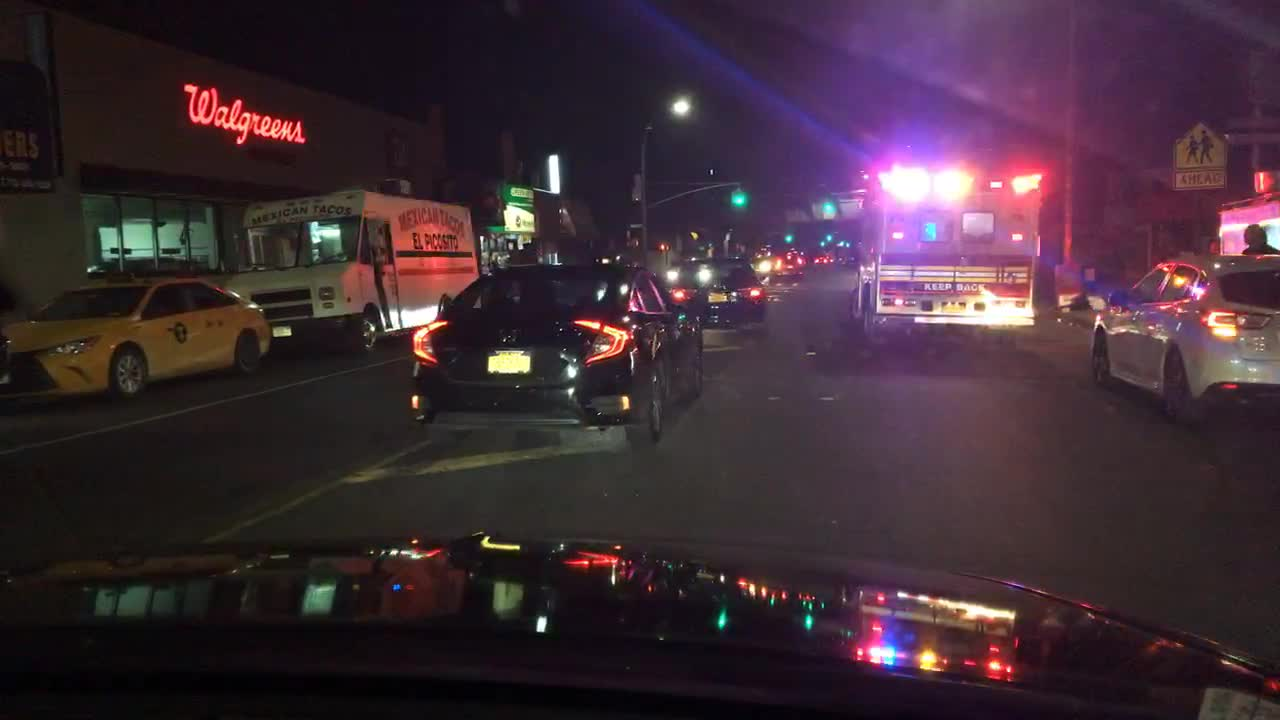car: (410, 263, 705, 454), (0, 277, 273, 407), (1092, 253, 1279, 428), (668, 258, 766, 336), (771, 250, 803, 275), (752, 253, 773, 273), (813, 251, 832, 263)
person: (1238, 224, 1274, 253)
traffic light: (820, 192, 833, 214), (732, 184, 744, 206)
traffic sign: (1173, 120, 1228, 191), (627, 219, 643, 229)
truck: (221, 189, 479, 361), (847, 145, 1039, 346)
